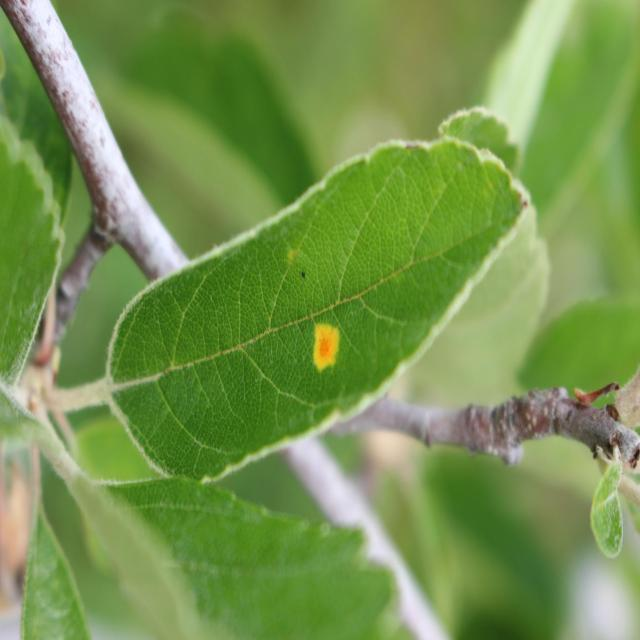Rust: (306, 316, 349, 384)
